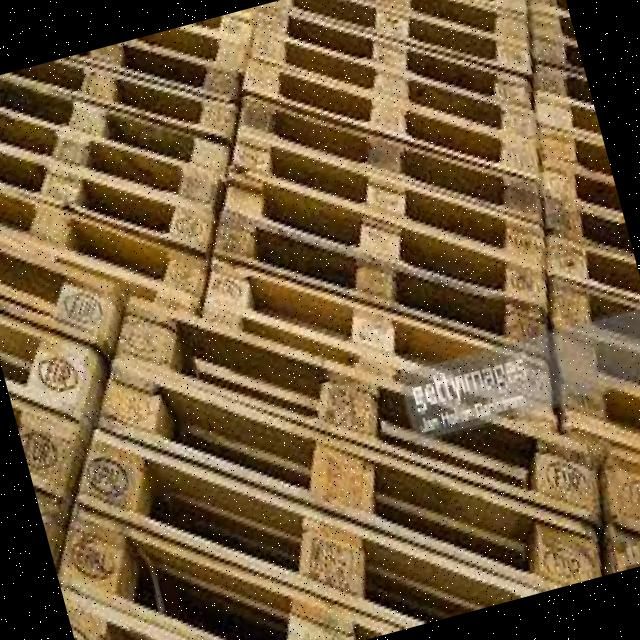Wooden-Pallets: (75, 363, 590, 583), (233, 115, 532, 261)
